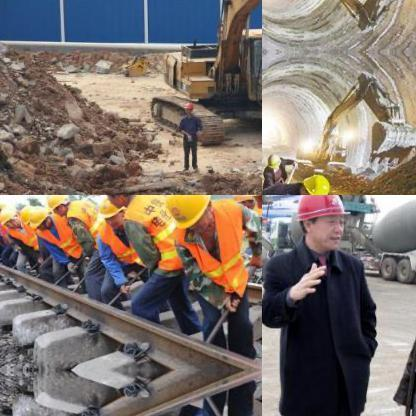Helmet: (295, 195, 350, 248), (159, 195, 214, 234), (294, 170, 334, 194), (99, 197, 127, 229), (41, 195, 69, 218), (0, 202, 23, 229), (26, 205, 50, 229), (99, 195, 137, 210), (228, 195, 258, 212), (16, 201, 34, 225), (264, 150, 282, 172), (179, 98, 195, 115)
